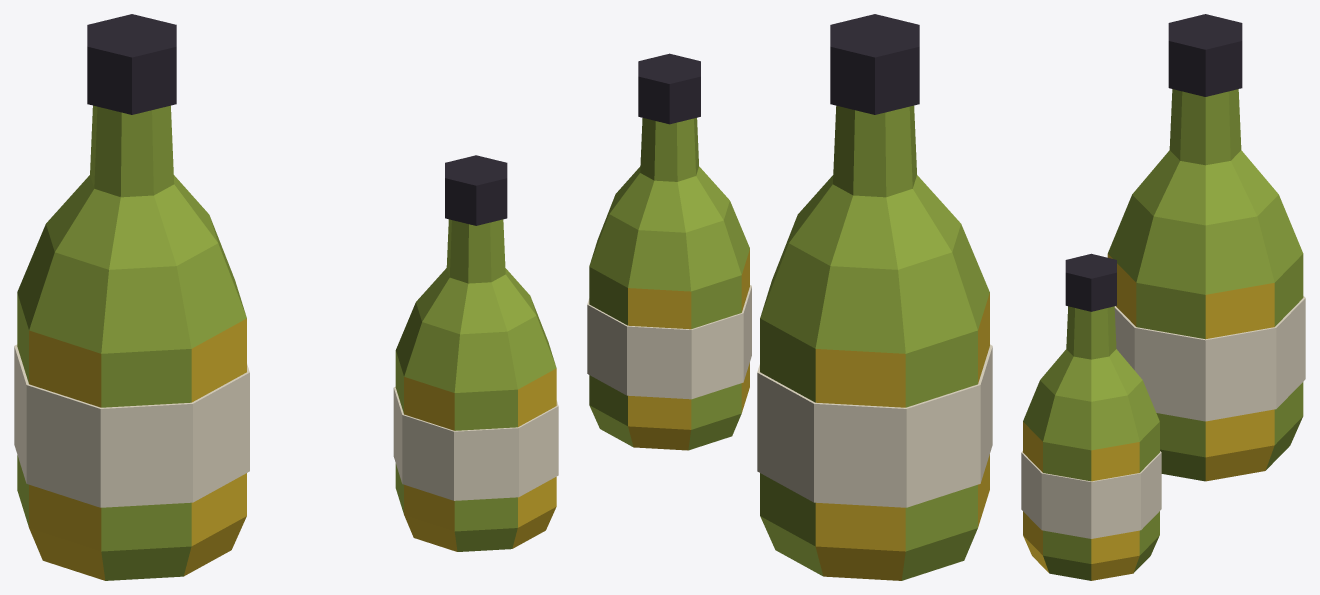
Rendered from olive-oil.glb.
3 renders of one model, left to right at view 1: azimuth 30°, elevation 25°; view 2: azimuth 150°, elevation 25°; view 3: azimuth 270°, elevation 25°, orthographic. The views are drawn at different scales.
Visible parts, largest first — view 1: olive-oil; view 2: olive-oil; view 3: olive-oil.
Boxes of the visible parts, x1,y1,x2,y2 form: olive-oil: (14, 14, 558, 580); olive-oil: (587, 14, 992, 580); olive-oil: (1021, 14, 1305, 580).
Bounding box in the file's own units: 0.2646 × 0.28 × 0.1746.
1 material, 1 textured.
